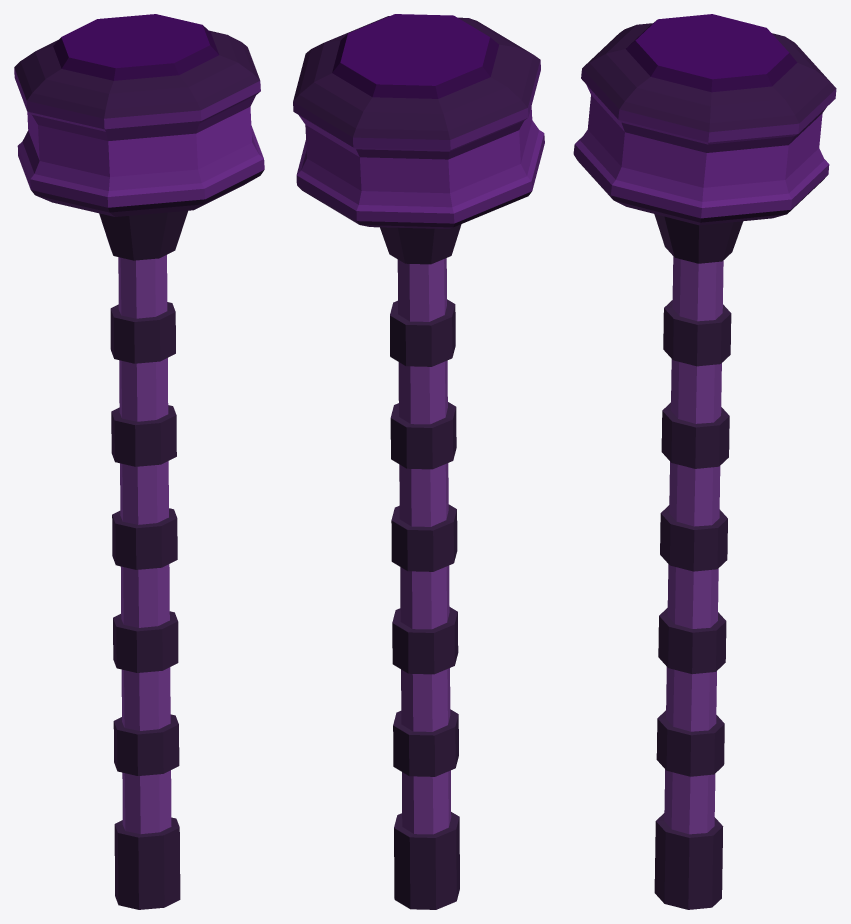
File: startEngineObject.glb
3 views of the same model, side by side, from view 1: azimuth 30°, elevation 25°; view 2: azimuth 150°, elevation 25°; view 3: azimuth 270°, elevation 25° (orthographic).
Visible parts, largest first — view 1: Cylinder; view 2: Cylinder; view 3: Cylinder.
Boxes of the visible parts, x1=… form: Cylinder: x1=14, y1=14, x2=264, y2=909; Cylinder: x1=293, y1=14, x2=544, y2=909; Cylinder: x1=573, y1=14, x2=836, y2=909.
Size of the model in its own units: 0.202 by 0.747 by 0.2076.
1 material, 1 textured.
